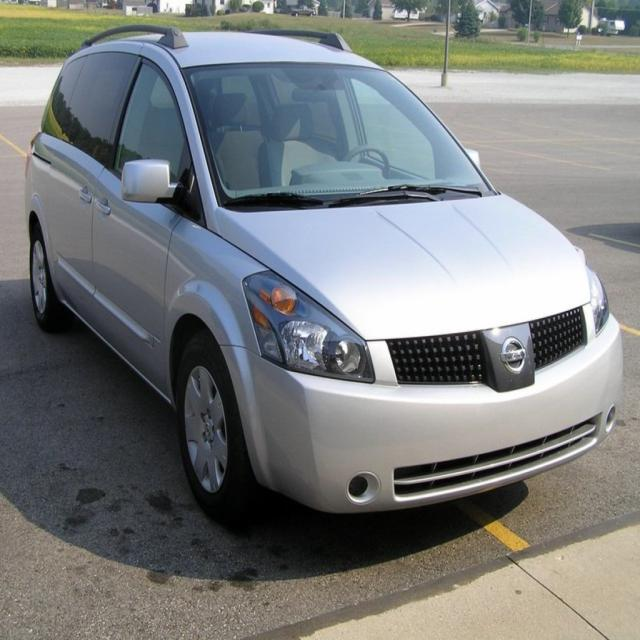car: (21, 19, 629, 536)
